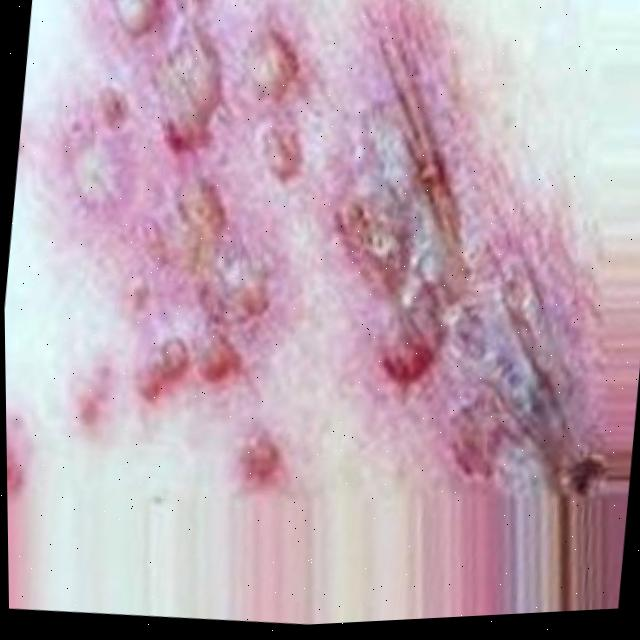Shingles: (0, 0, 620, 533)
